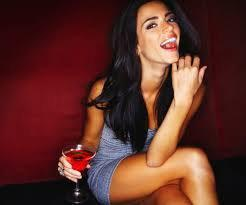Drunk: (140, 5, 180, 63)
